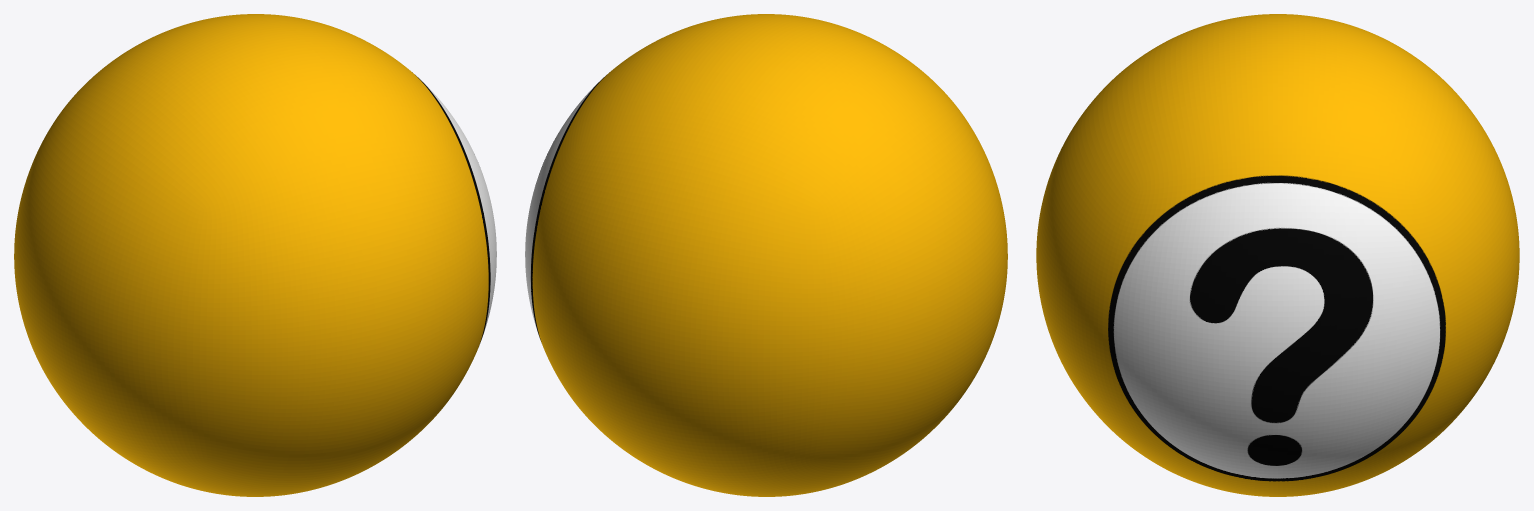
The model's file is whiite_？.fbx.
3 renders of one model, left to right at view 1: azimuth 30°, elevation 25°; view 2: azimuth 150°, elevation 25°; view 3: azimuth 270°, elevation 25°, orthographic.
Parts seen in each view (by area): view 1: Roundcube.002; view 2: Roundcube.002; view 3: Roundcube.002.
Boxes of the visible parts, left/top/right/bottom form: Roundcube.002: left=14, top=14, right=496, bottom=496; Roundcube.002: left=525, top=14, right=1007, bottom=496; Roundcube.002: left=1036, top=14, right=1519, bottom=496.
Bounding box in the file's own units: 479 × 479 × 479.
